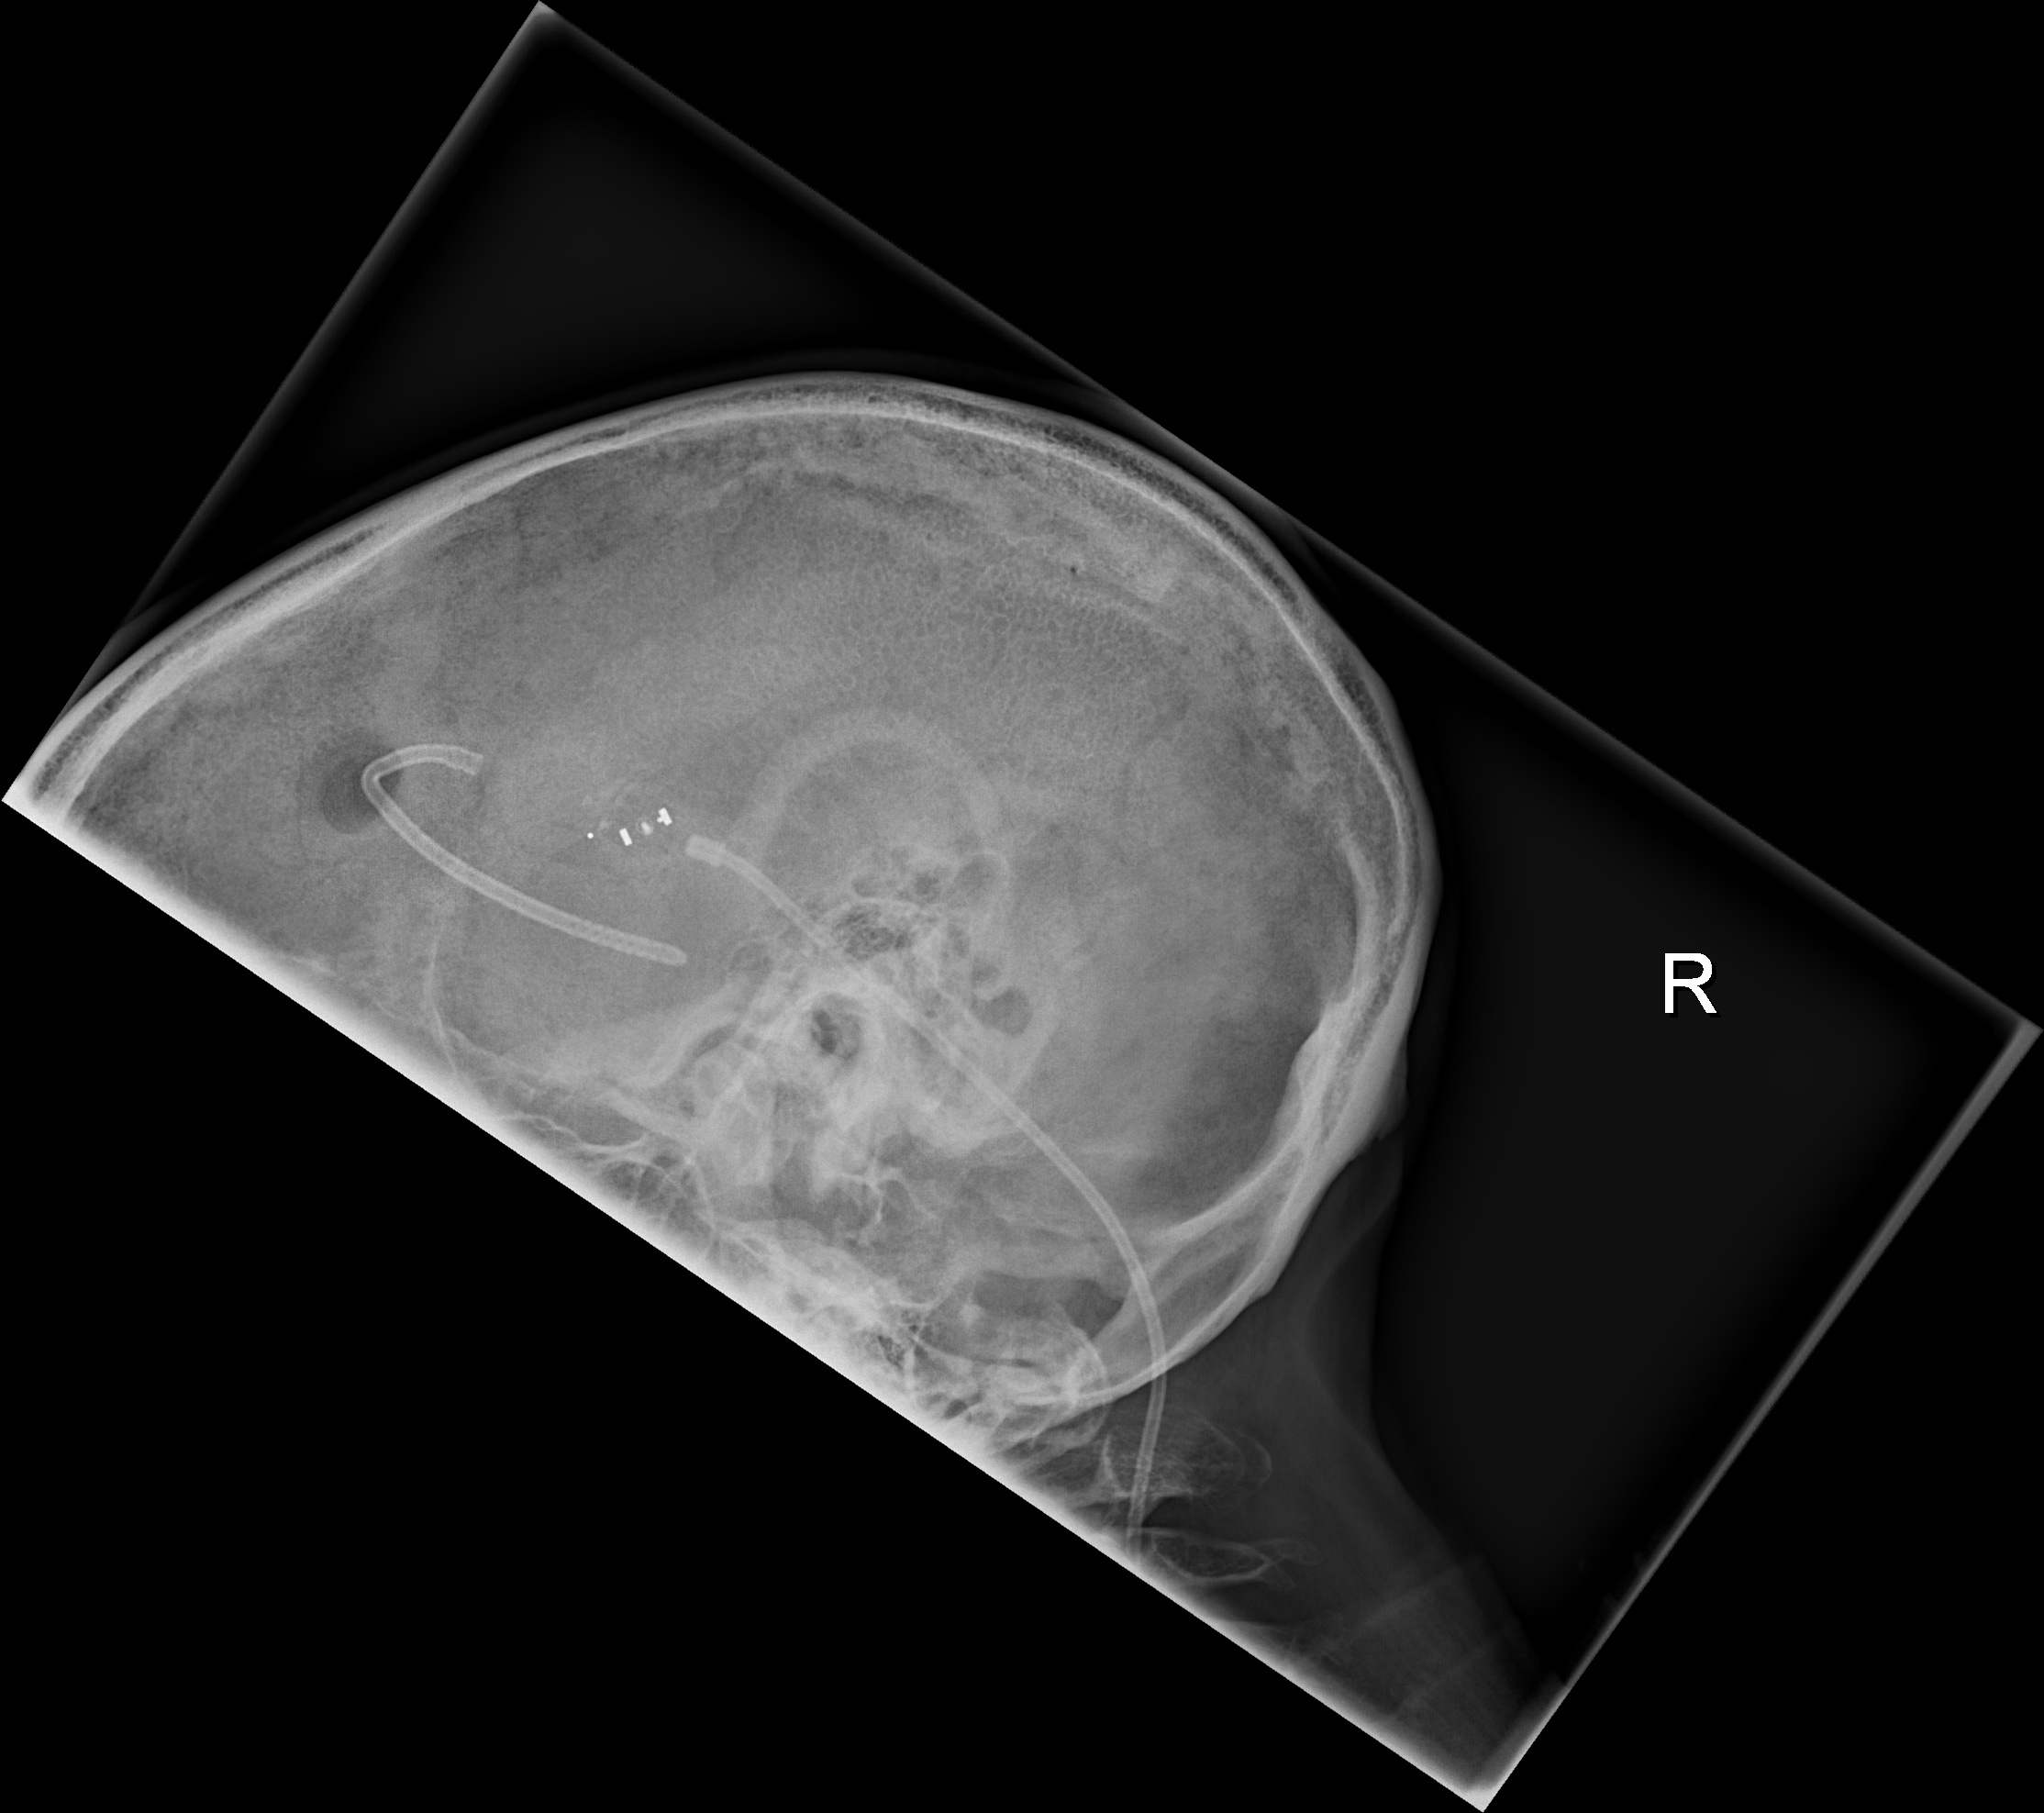Codman Certas: (581, 784, 690, 878)
